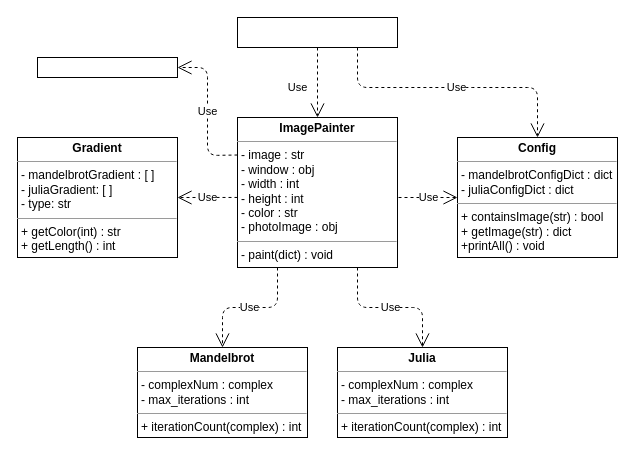
The diagram is 635 pixels wide and 455 high, and some of its shapes have lost their labels. The centre of each missing label's shape, as x and y in pixels:
"Main" goes at pixel 317 32.
"Tkinter" goes at pixel 107 67.
